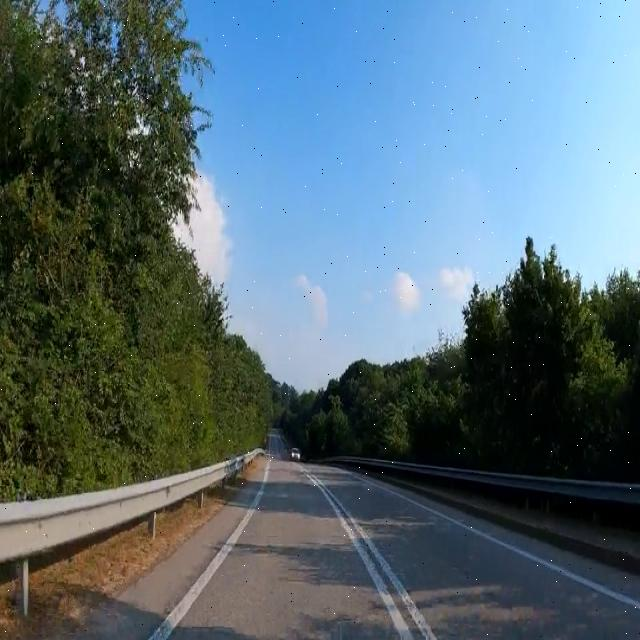lane: (364, 480, 640, 610), (150, 453, 270, 639), (322, 489, 412, 640), (345, 512, 436, 640)
road: (120, 435, 640, 638)
